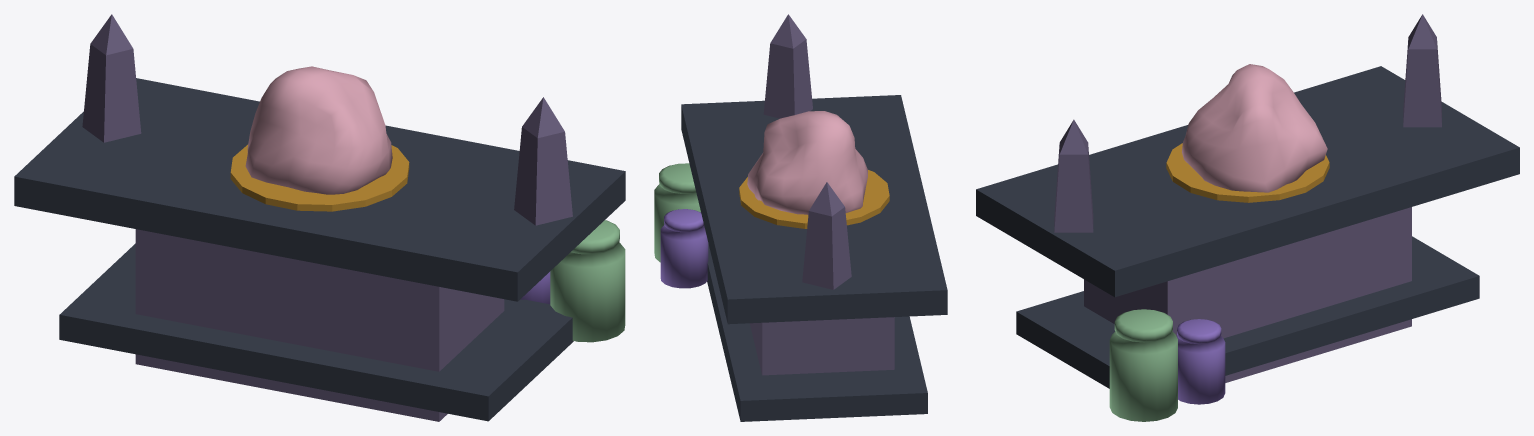
Rendered from workstation_altar_v1.fbx.
The picture shows the model from 3 angles, left to right: view 1: azimuth 30°, elevation 25°; view 2: azimuth 150°, elevation 25°; view 3: azimuth 270°, elevation 25°; orthographic projection. The views are drawn at different scales.
Parts seen in each view (by area): view 1: Cube.013, Cube.014, Cube.015, Cylinder.006, Cylinder.004, Cube.031, Cube.030; view 2: Cube.013, Cube.015, Cylinder.006, Cube.014, Cube.030, Cube.031, Cylinder.005, Cylinder.004; view 3: Cube.013, Cube.014, Cube.015, Cylinder.006, Cylinder.004, Cylinder.005, Cube.031, Cube.030.
Boxes of the visible parts, box(x1,y1,x2,y2) form: Cube.013: box(14, 78, 625, 301); Cube.014: box(135, 229, 504, 421); Cube.015: box(59, 243, 573, 421); Cylinder.006: box(230, 66, 409, 211); Cylinder.004: box(550, 220, 625, 342); Cube.031: box(514, 97, 572, 225); Cube.030: box(82, 14, 141, 142); Cube.013: box(681, 95, 947, 324); Cube.015: box(707, 244, 927, 421); Cylinder.006: box(739, 111, 889, 228); Cube.014: box(750, 317, 894, 375); Cube.030: box(802, 182, 851, 289); Cube.031: box(763, 14, 812, 118); Cylinder.005: box(660, 209, 708, 288); Cylinder.004: box(654, 163, 708, 262); Cube.013: box(976, 66, 1519, 297); Cube.014: box(1084, 207, 1411, 382); Cube.015: box(1016, 236, 1479, 388); Cylinder.006: box(1166, 64, 1329, 202); Cylinder.004: box(1109, 309, 1177, 421); Cylinder.005: box(1177, 319, 1225, 404); Cube.031: box(1054, 119, 1093, 232); Cube.030: box(1403, 14, 1441, 127).
Size of the model in its own units: 217 by 133 by 237.
